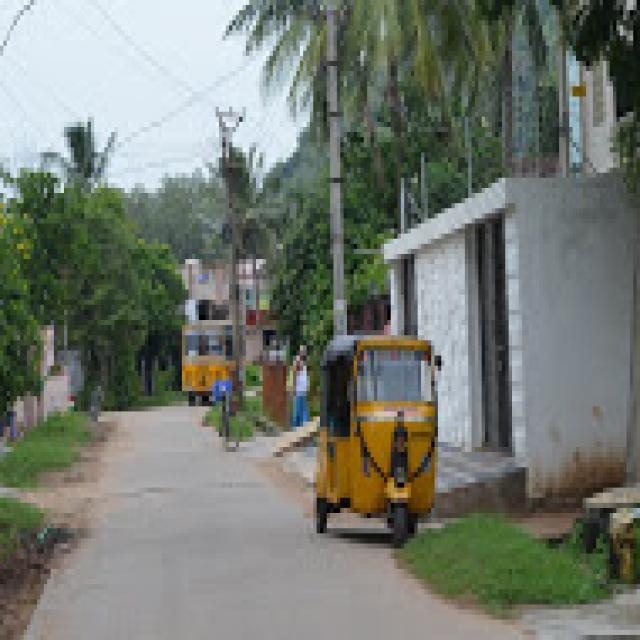auto_front: (304, 324, 448, 554)
bus_front: (178, 315, 240, 409)
